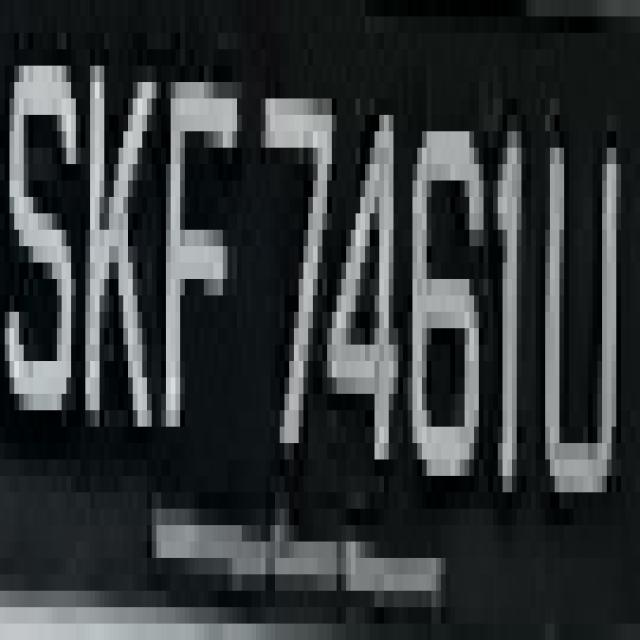1: (493, 49, 531, 509)
4: (322, 33, 403, 492)
6: (408, 66, 488, 525)
7: (246, 66, 342, 525)
F: (147, 16, 237, 509)
K: (80, 17, 156, 460)
S: (5, 33, 80, 459)
U: (536, 99, 621, 542)
